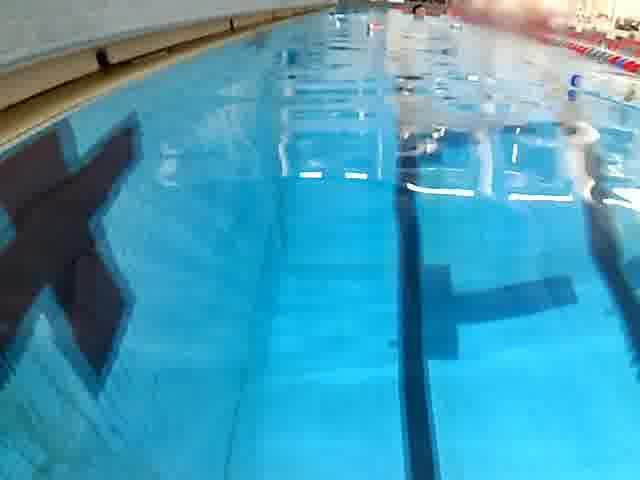Bottle: (562, 64, 638, 107)
Can: (445, 21, 465, 39), (368, 21, 387, 36), (330, 13, 352, 24)
